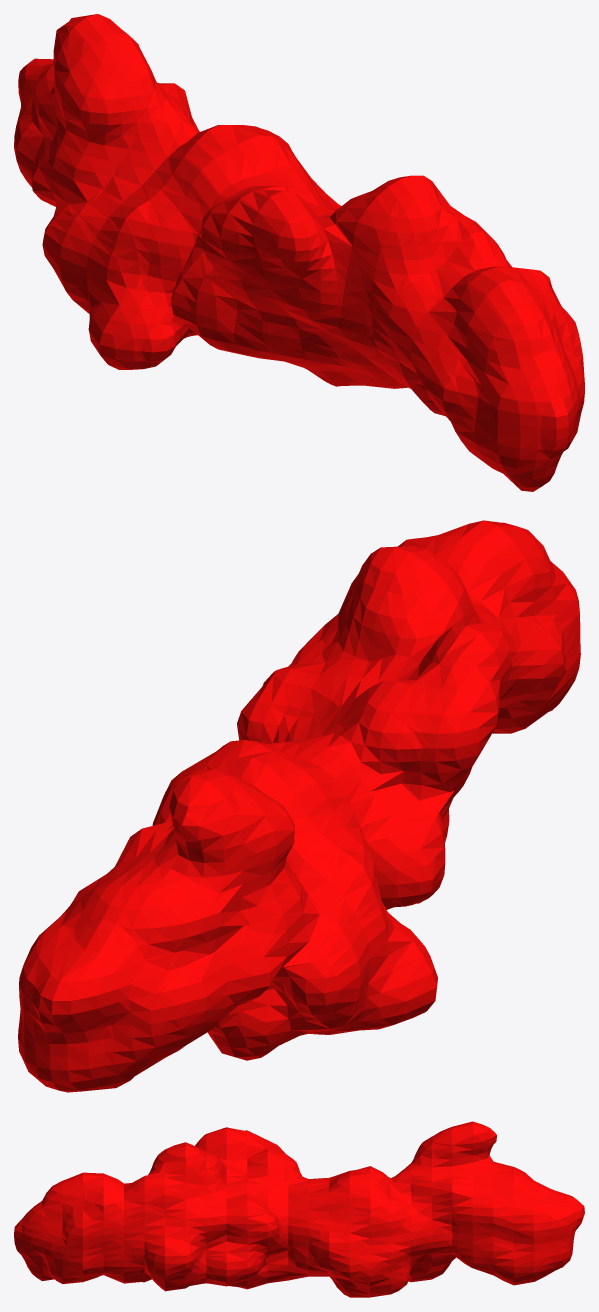
File: ubiB_coarse.dae
The picture shows the model from 3 angles, top to bottom: view 1: azimuth 30°, elevation 25°; view 2: azimuth 150°, elevation 25°; view 3: azimuth 270°, elevation 25°; orthographic projection. The views are drawn at different scales.
Parts seen in each view (by area): view 1: ubiB; view 2: ubiB; view 3: ubiB.
Boxes of the visible parts, bbox=[...] form: ubiB: bbox=[14, 14, 584, 491]; ubiB: bbox=[18, 520, 580, 1092]; ubiB: bbox=[14, 1121, 584, 1297].
Size of the model in its own units: 53.32 by 48.54 by 160.
